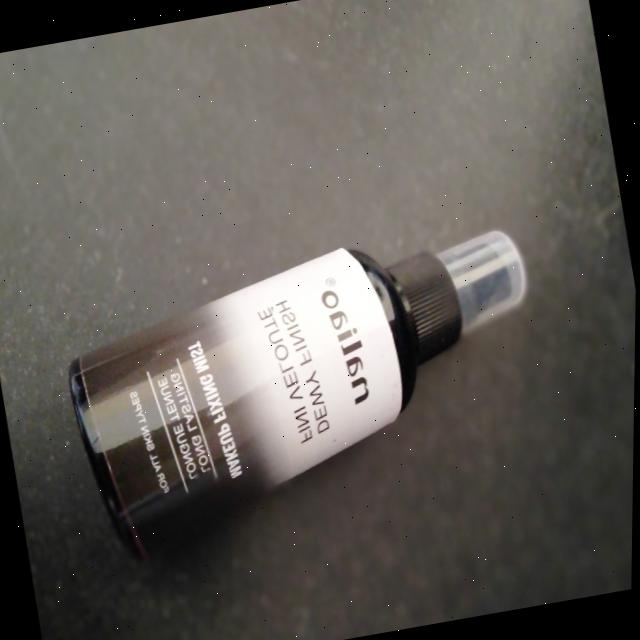setting spray: (50, 184, 603, 560)
